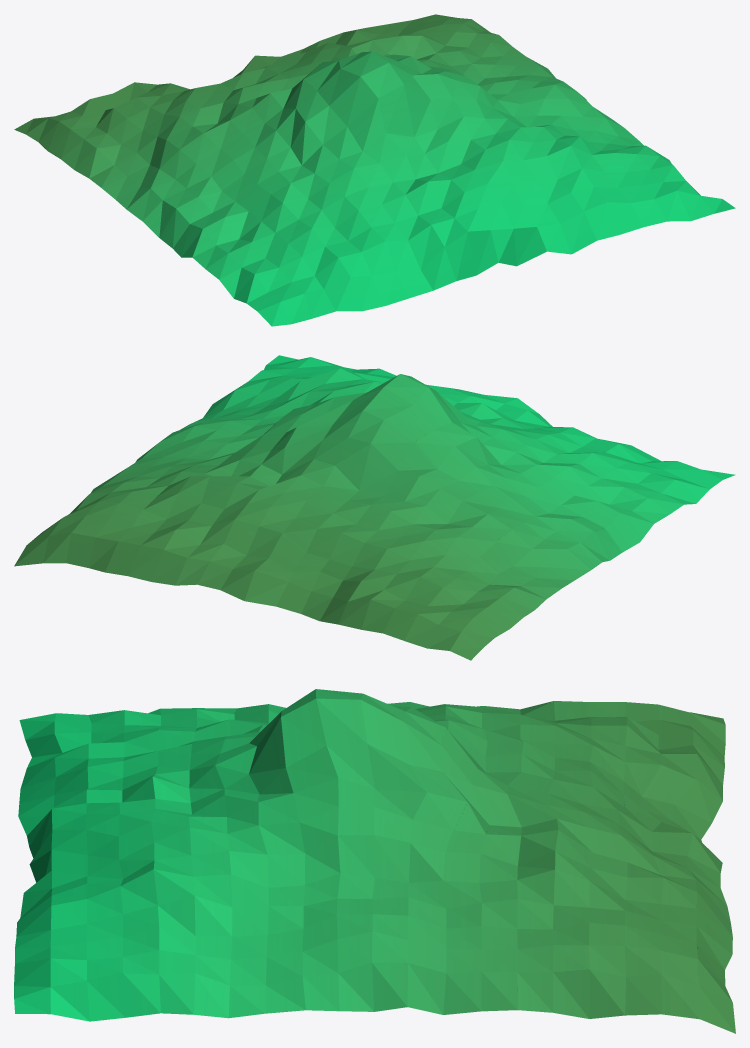
File: CUPIC_HILL.gltf
The picture shows the model from 3 angles, top to bottom: view 1: azimuth 30°, elevation 25°; view 2: azimuth 150°, elevation 25°; view 3: azimuth 270°, elevation 25°; orthographic projection. The views are drawn at different scales.
Parts seen in each view (by area): view 1: node-0; view 2: node-0; view 3: node-0.
Boxes of the visible parts, box(x1,y1,x2,y2) form: node-0: box(14, 14, 735, 326); node-0: box(14, 355, 735, 660); node-0: box(14, 689, 735, 1033).
Size of the model in its own units: 1499 by 422 by 1509.
Materials: 1 (1 with a texture image).
